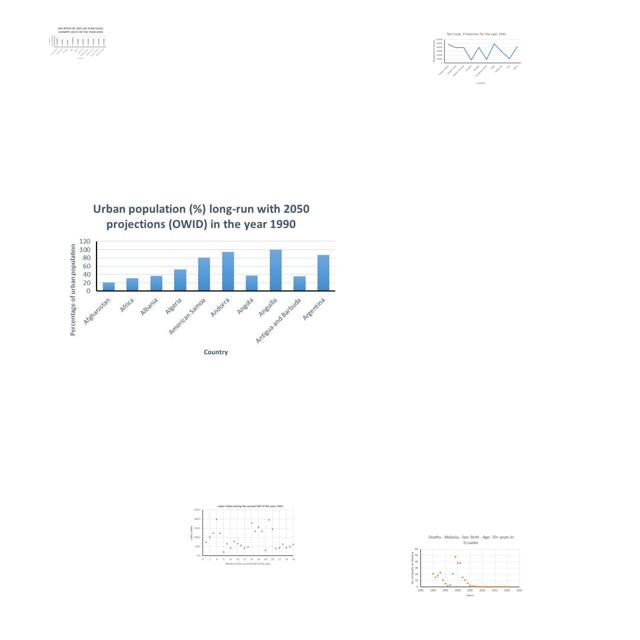Graph: (65, 200, 338, 359), (409, 533, 524, 599), (189, 504, 296, 566), (431, 31, 522, 85), (47, 26, 107, 60)
